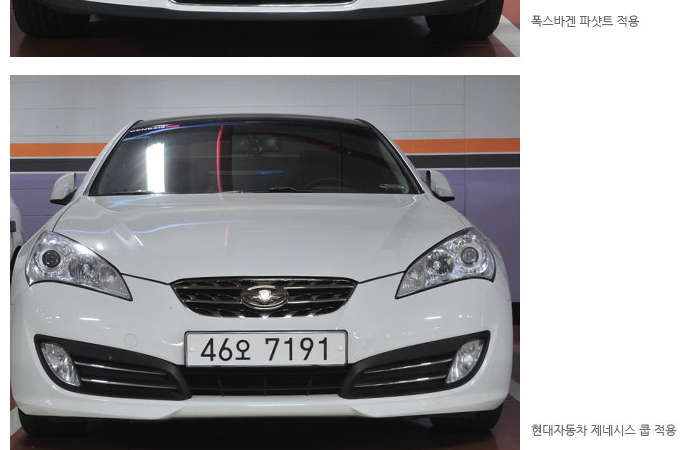plate: (185, 331, 344, 364)
